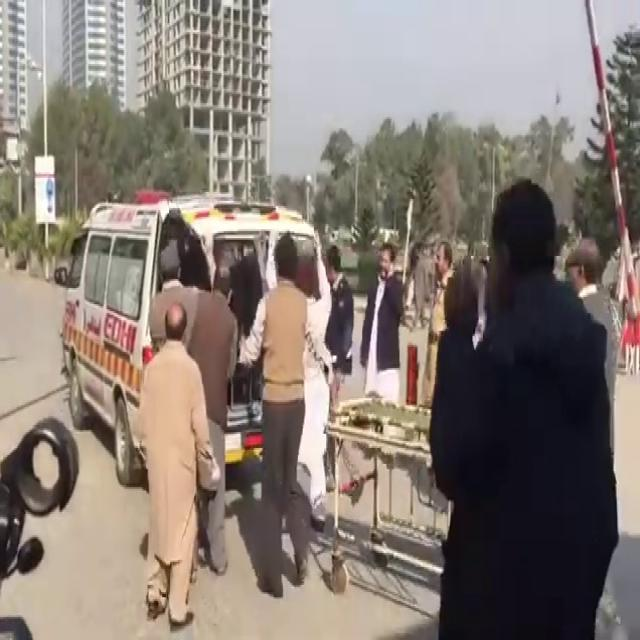ambulance: (55, 212, 312, 478)
